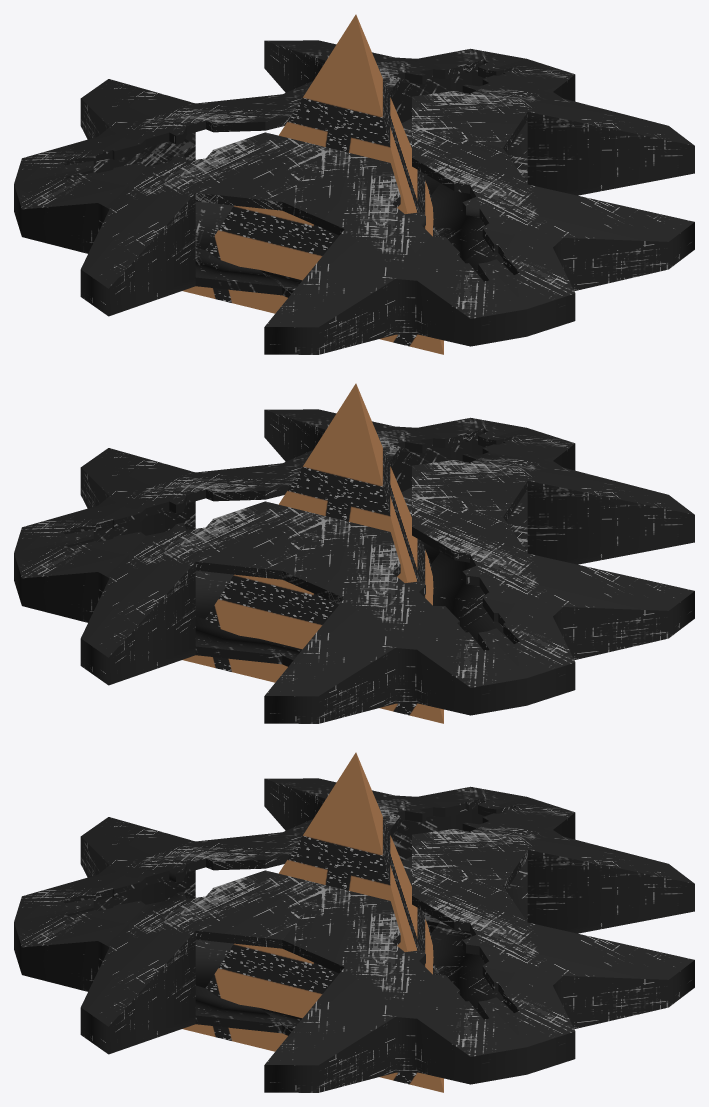
The model's file is hatak.FBX.
3 views of the same model, one above another, from view 1: azimuth 30°, elevation 25°; view 2: azimuth 150°, elevation 25°; view 3: azimuth 270°, elevation 25° (orthographic).
Parts seen in each view (by area): view 1: Box001, Prism001; view 2: Box001, Prism001; view 3: Box001, Prism001.
Part boxes in pixels (<box>): Box001: <box>14,40,694,354</box>; Prism001: <box>183,14,443,354</box>; Box001: <box>14,409,694,723</box>; Prism001: <box>183,383,443,723</box>; Box001: <box>14,778,694,1092</box>; Prism001: <box>183,752,443,1092</box>.
Bounding box in the file's own units: 701 × 315 × 703.
